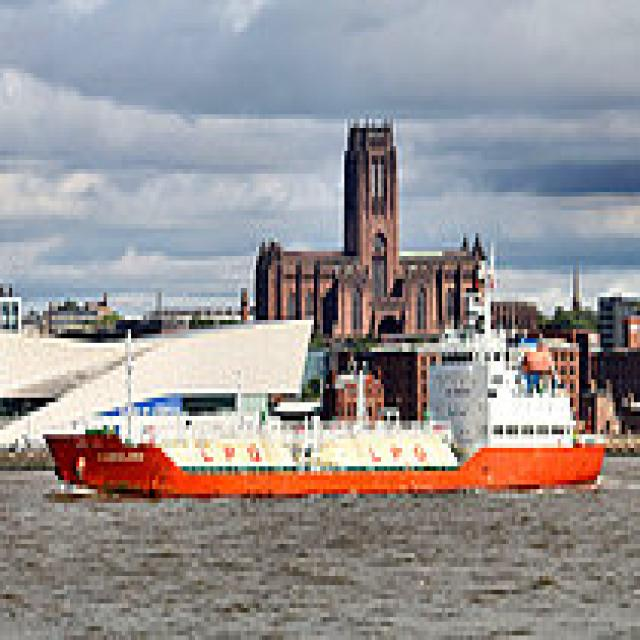Tanker: (36, 274, 604, 494)
